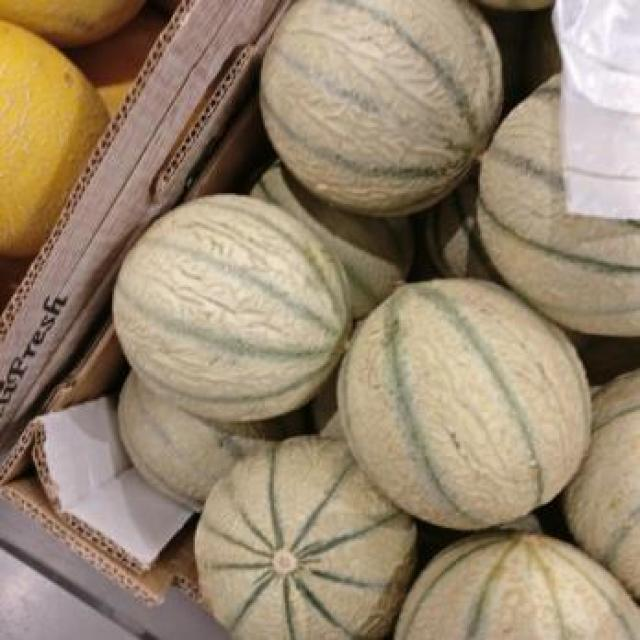Cantaloupe: (342, 254, 603, 535), (98, 182, 370, 438), (252, 0, 508, 208)
